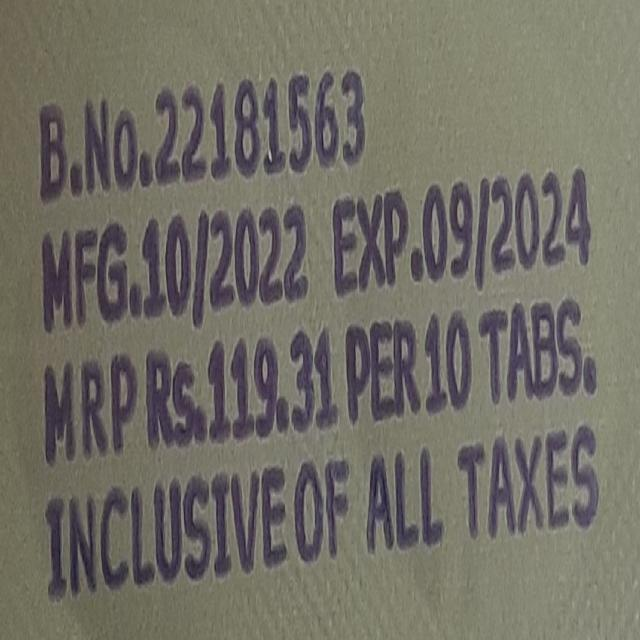sentence: (45, 424, 600, 601), (44, 298, 598, 465), (40, 168, 591, 333), (40, 71, 365, 202)
